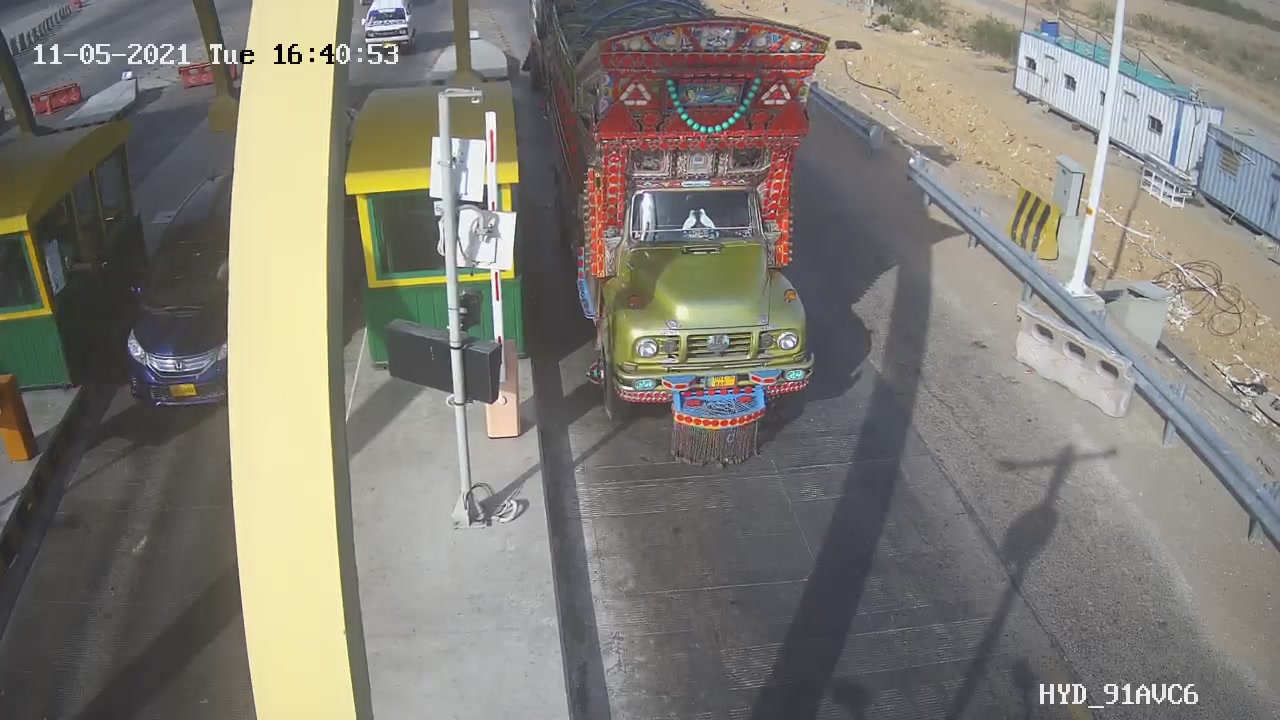F5: (516, 3, 869, 495)
